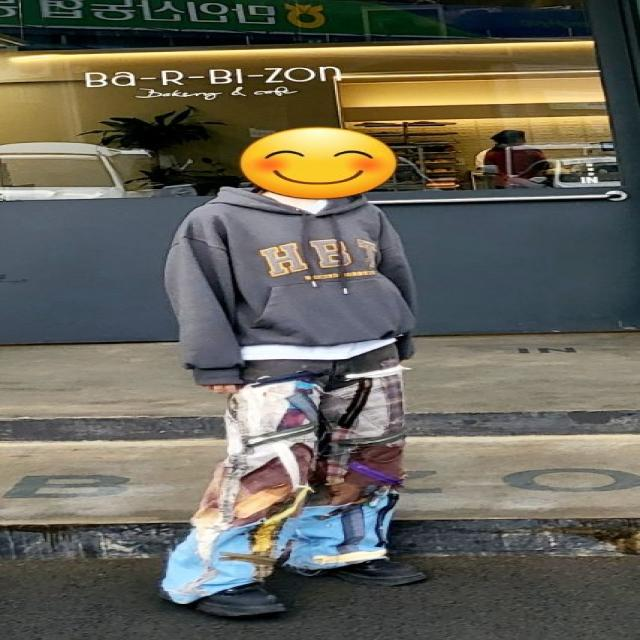cottonpants: (162, 337, 404, 607)
hoodies: (168, 186, 422, 382)
